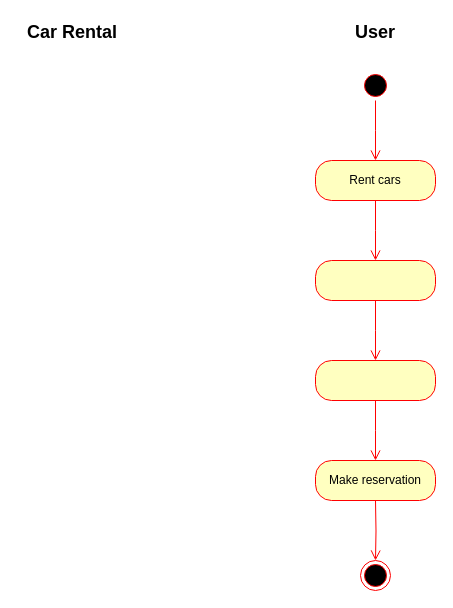
Some shapes in this 453 by 608 pixel diagram are drawn without their labels. The box of each missing label's shape, as (x1, y1, x2, y2) in pixels:
Choose car: (314, 360, 436, 400)
Enter car details: (314, 260, 436, 300)
